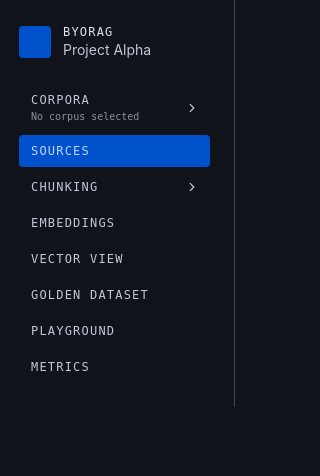
Test: SidebarNav › Chevron indicator (008-corpora-management US4, 029-corpora-nav-redesign) › rotates the chevron and updates aria-expanded when Chunking is expanded and collapsed
Expected: the text "No corpus selected" is shown, [31,110,139,123]
Click the link "CHUNKING" at (65, 187), box [31,180,198,194]
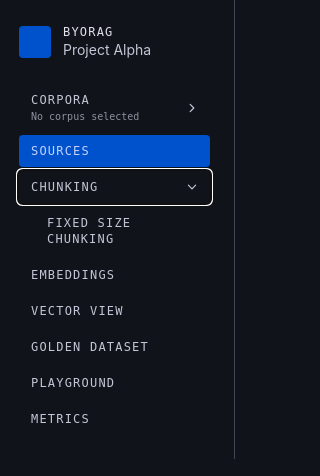
Expected: the link "CHUNKING" is expanded
Click the link "CHUNKING" at (65, 187), box [31,180,198,194]
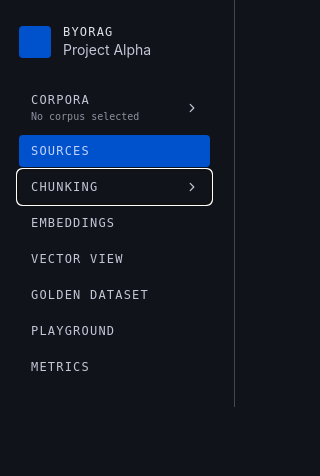
Expected: the link "CHUNKING" is collapsed, [31,180,198,194]
